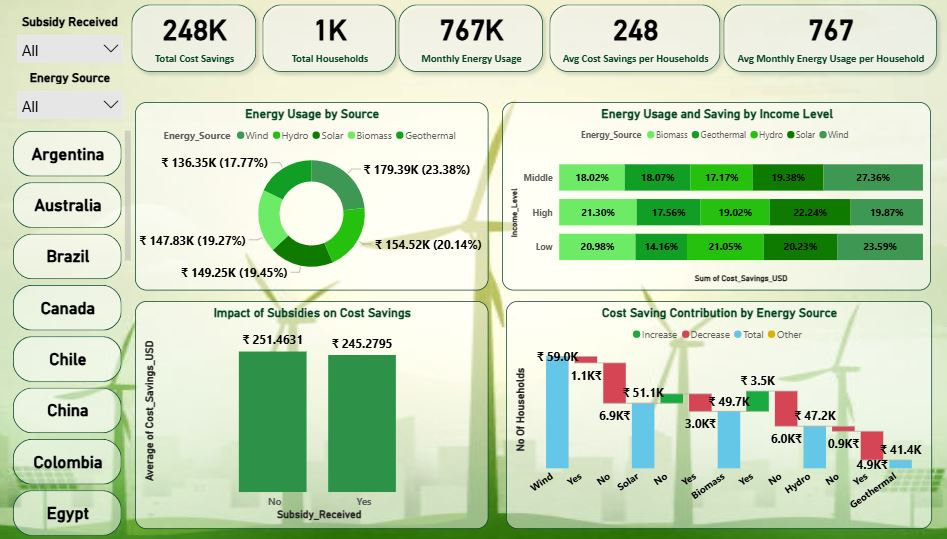

This screenshot's page, from the dashboard's own definition file:
{"tool":"powerbi","page":{"name":"ENERGY USAGE AND SOURCES","canvas":[1305,750],"ordinal":1},"visuals":[{"type":"advancedSlicerVisual","fields":{"Values":["Renewable_Energy_Usage_Sampled.Country"]},"box":[22.4,183.6,171.6,565.7],"z":0},{"type":"cardVisual","fields":{"Data":["Key Measures.Total Cost Savings"]},"box":[171.6,0,204.5,126.9],"z":1000},{"type":"donutChart","title":"Energy Usage by Source ","fields":{"Y":["Sum(Renewable_Energy_Usage_Sampled.Monthly_Usage_kWh)"],"Category":["Renewable_Energy_Usage_Sampled.Energy_Source"]},"box":[193.5,150,481.5,256.5],"z":2000},{"type":"cardVisual","fields":{"Data":["Key Measures.Total Householda"]},"box":[350.7,0,216.4,126.9],"z":3000},{"type":"cardVisual","fields":{"Data":["Key Measures.Monthly Energy Usage"]},"box":[535.8,0,231.3,126.9],"z":4000},{"type":"cardVisual","fields":{"Data":["Key Measures.Avg Cost Savings per Households"]},"box":[741.8,0,267.2,126.9],"z":5000},{"type":"cardVisual","fields":{"Data":["Key Measures.Avg Monthly Energy Usage per Household"]},"box":[979.1,0,325.4,126.9],"z":6000},{"type":"slicer","title":"Subsidy Received","fields":{"Values":["Renewable_Energy_Usage_Sampled.Subsidy_Received"]},"box":[22.5,30,163.5,66],"z":7000},{"type":"slicer","title":"Energy Source","fields":{"Values":["Renewable_Energy_Usage_Sampled.Energy_Source"]},"box":[22.5,106.5,163.5,66],"z":8000},{"type":"hundredPercentStackedBarChart","title":"Energy Usage and Saving by Income Level","fields":{"Category":["Renewable_Energy_Usage_Sampled.Income_Level"],"Series":["Renewable_Energy_Usage_Sampled.Energy_Source"],"Y":["Sum(Renewable_Energy_Usage_Sampled.Cost_Savings_USD)"]},"box":[694.5,150,585,256.5],"z":9000},{"type":"waterfallChart","title":"Cost Saving Contribution by Energy Source","fields":{"Category":["Renewable_Energy_Usage_Sampled.Energy_Source"],"Y":["Sum(Renewable_Energy_Usage_Sampled.Cost_Savings_USD)"],"Breakdown":["Renewable_Energy_Usage_Sampled.Subsidy_Received"]},"box":[699,421.5,580.5,310.5],"z":10000},{"type":"clusteredColumnChart","title":"Impact of Subsidies on Cost Savings","fields":{"Category":["Renewable_Energy_Usage_Sampled.Subsidy_Received"],"Y":["Avg(Renewable_Energy_Usage_Sampled.Cost_Savings_USD)"]},"box":[193.5,421.5,481.5,310.5],"z":11000}]}

Visuals, with their boxes in screenshot pixels (x1, y1, x2, y2), scaled from the page's 1305x750 canvas onto the 947x539 screenshot:
advancedSlicerVisual - Renewable_Energy_Usage_Sampled.Country: 16,132,141,538
cardVisual - Key Measures.Total Cost Savings: 125,0,273,91
"Energy Usage by Source " donutChart: 140,108,490,292
cardVisual - Key Measures.Total Householda: 254,0,412,91
cardVisual - Key Measures.Monthly Energy Usage: 389,0,557,91
cardVisual - Key Measures.Avg Cost Savings per Households: 538,0,732,91
cardVisual - Key Measures.Avg Monthly Energy Usage per Household: 711,0,946,91
"Subsidy Received" slicer: 16,22,135,69
"Energy Source" slicer: 16,77,135,124
"Energy Usage and Saving by Income Level" hundredPercentStackedBarChart: 504,108,928,292
"Cost Saving Contribution by Energy Source" waterfallChart: 507,303,928,526
"Impact of Subsidies on Cost Savings" clusteredColumnChart: 140,303,490,526
